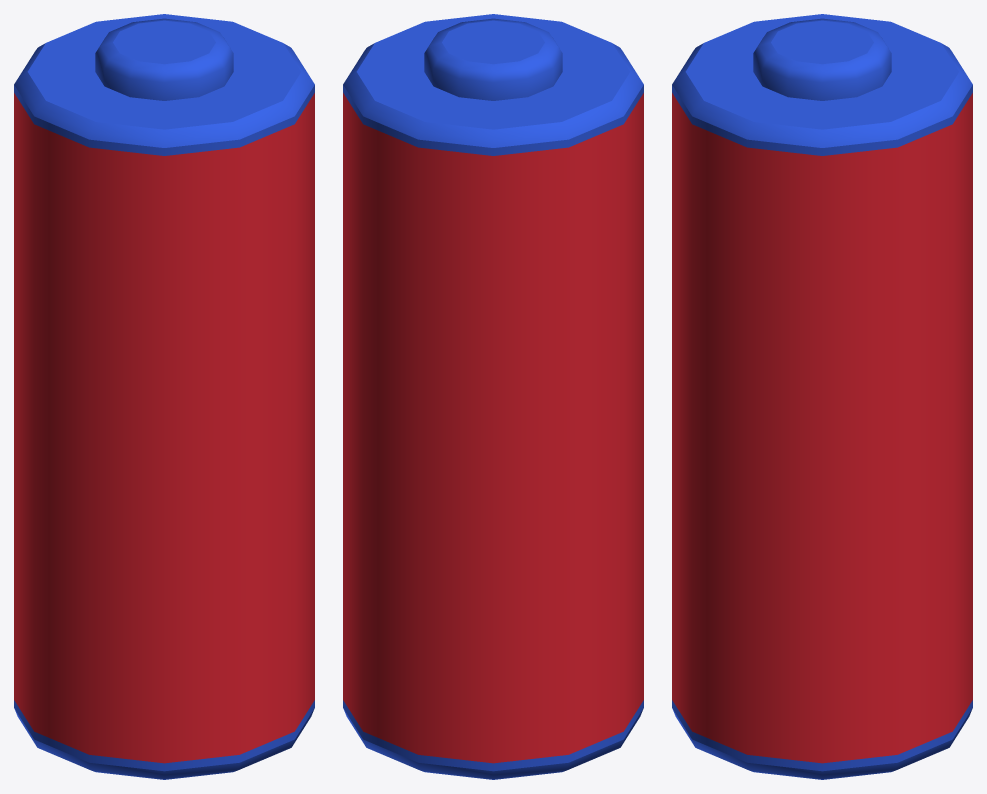
Rendered from Battery 1.fbx.
3 views of the same model, side by side, from view 1: azimuth 30°, elevation 25°; view 2: azimuth 150°, elevation 25°; view 3: azimuth 270°, elevation 25° (orthographic).
Parts seen in each view (by area): view 1: battery; view 2: battery; view 3: battery.
Part boxes in pixels (x1=…): battery: x1=14, y1=14, x2=314, y2=779; battery: x1=343, y1=14, x2=643, y2=779; battery: x1=672, y1=14, x2=972, y2=779.
Size of the model in its own units: 0.6864 by 1.71 by 0.6864.
